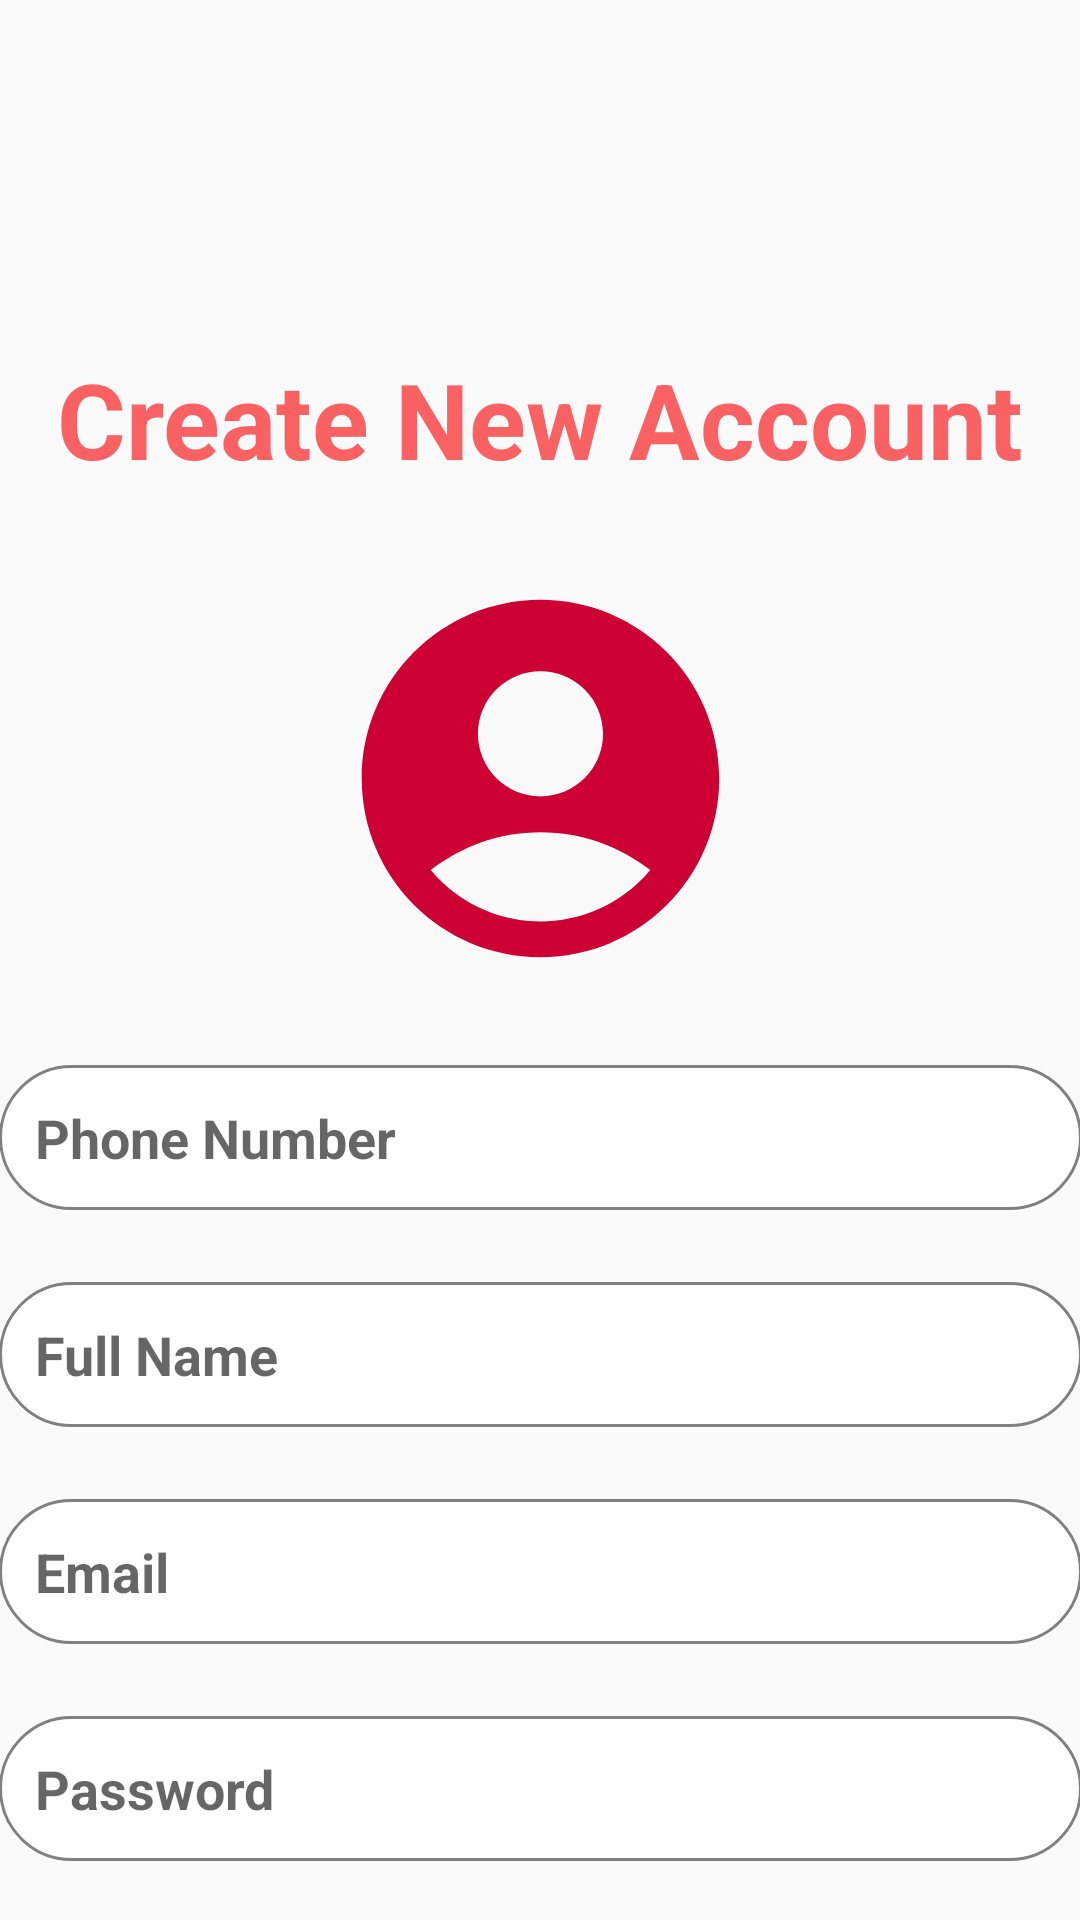

Screen size 1080px×1920px. Icon name, then its center in pixels as [x,y]:
account circle: [540,778]
